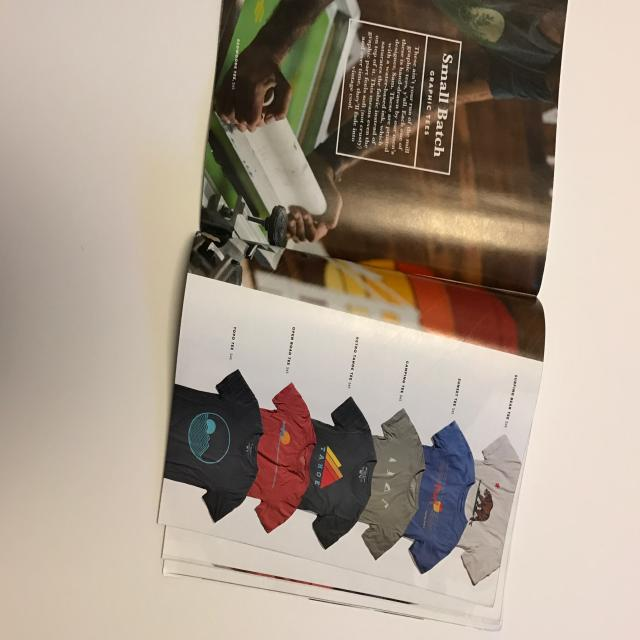paper: (158, 0, 573, 619)
